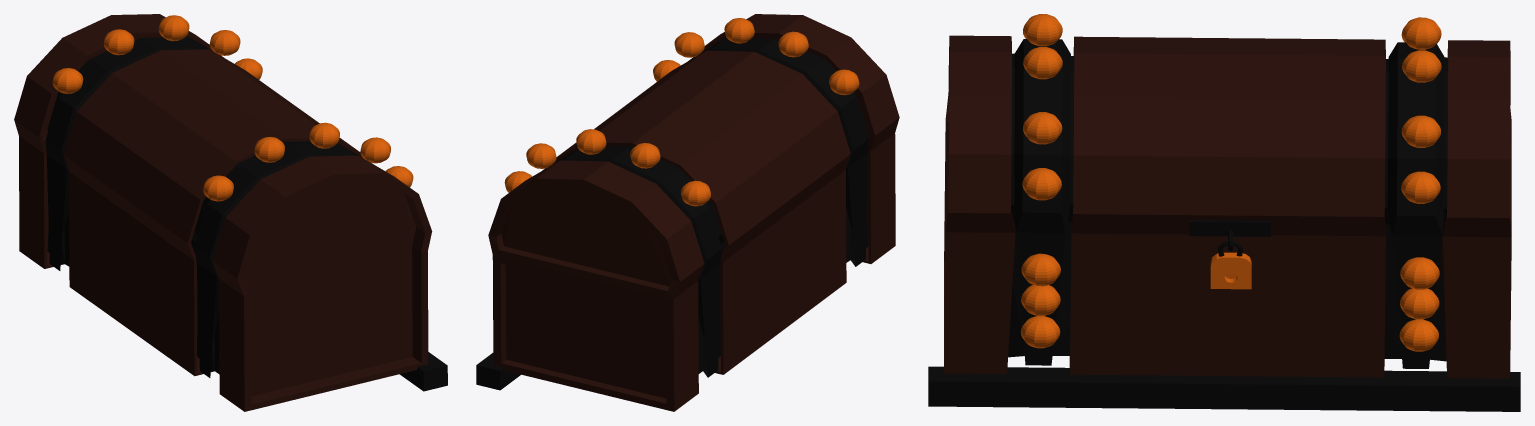
The model's file is treasure.obj.
3 renders of one model, left to right at view 1: azimuth 30°, elevation 25°; view 2: azimuth 150°, elevation 25°; view 3: azimuth 270°, elevation 25°, orthographic. The views are drawn at different scales.
Visible parts, largest first — view 1: Cube.011_Cube.087; view 2: Cube.011_Cube.087; view 3: Cube.011_Cube.087.
Boxes of the visible parts, x1,y1,x2,y2 form: Cube.011_Cube.087: [14, 14, 447, 411]; Cube.011_Cube.087: [476, 14, 899, 411]; Cube.011_Cube.087: [928, 14, 1520, 411].
Bounding box in the file's own units: 1.58 × 1.76 × 3.
